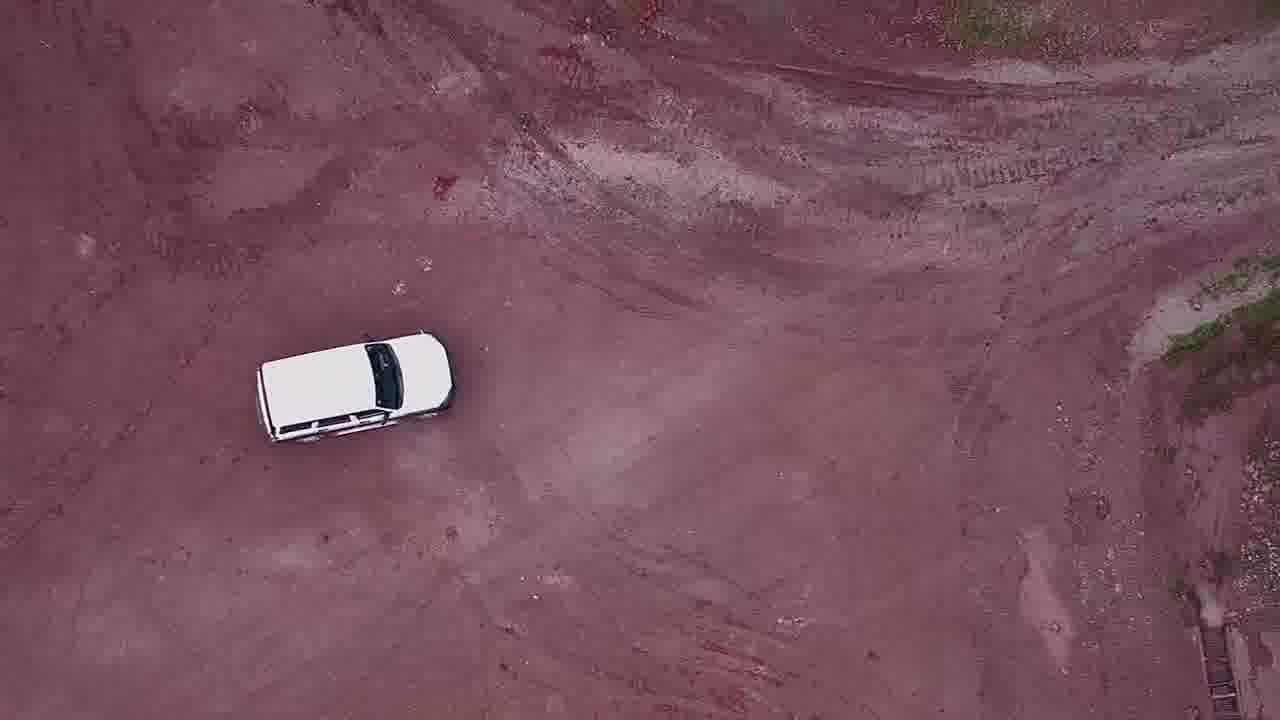light_motor_vehicle: (254, 329, 460, 447)
